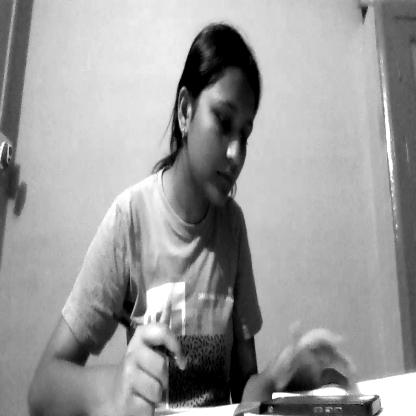Distracted: (182, 25, 261, 208)
